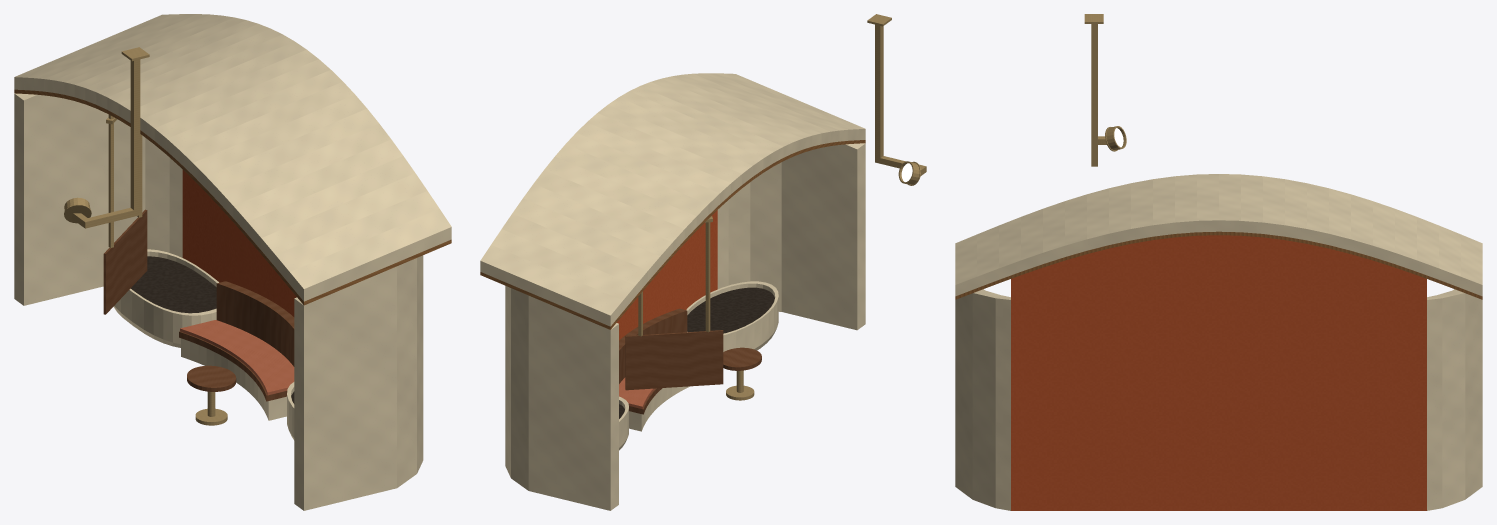
The model's file is AST-AQU-016_east_gallery_rest_bay_r04.glb.
3 views of the same model, side by side, from view 1: azimuth 30°, elevation 25°; view 2: azimuth 150°, elevation 25°; view 3: azimuth 270°, elevation 25° (orthographic). The views are drawn at different scales.
Visible parts, largest first — view 1: EAST_Bay_PaleFrontCanopy, EAST_Bay_AftSweptReturn, EAST_Bay_ForeSweptReturn, EAST_Bay_CurvedClayBack, EAST_Bench_WalnutBack, EAST_Bench_ClayUpholstery, EAST_ForeSoilBed_Soil, EAST_ForeSoilBed_Container, EAST_Display_AngledReceiver, EAST_Bay_WarmRearCanopy, EAST_Bench_StonePlinth, FIN_Bay_DropStem (+4 smaller); view 2: EAST_Bay_PaleFrontCanopy, EAST_Bay_ForeSweptReturn, EAST_Bay_AftSweptReturn, EAST_Display_AngledReceiver, EAST_Bay_CurvedClayBack, EAST_AftSoilBed_Soil, EAST_AftSoilBed_Container, EAST_Bay_WarmRearCanopy, EAST_Bench_WalnutBack, FIN_Bay_DropStem, EAST_Table_WalnutTop, EAST_Bench_StonePlinth (+2 smaller); view 3: EAST_Bay_CurvedClayBack, EAST_Bay_PaleFrontCanopy, EAST_Bay_RearHeader, EAST_Bay_AftSweptReturn, EAST_Bay_ForeSweptReturn, EAST_Bay_WarmRearCanopy, FIN_Bay_DropStem.
Boxes of the visible parts, box(x1,y1,x2,y2) form: EAST_Bay_PaleFrontCanopy: box(14, 14, 451, 301); EAST_Bay_AftSweptReturn: box(294, 255, 423, 510); EAST_Bay_ForeSweptReturn: box(14, 93, 182, 305); EAST_Bay_CurvedClayBack: box(182, 170, 296, 316); EAST_Bench_WalnutBack: box(216, 281, 294, 366); EAST_Bench_ClayUpholstery: box(180, 320, 294, 395); EAST_ForeSoilBed_Soil: box(131, 256, 216, 313); EAST_ForeSoilBed_Container: box(113, 249, 218, 347); EAST_Display_AngledReceiver: box(103, 209, 147, 314); EAST_Bay_WarmRearCanopy: box(14, 89, 451, 305); EAST_Bench_StonePlinth: box(181, 338, 286, 420); FIN_Bay_DropStem: box(130, 59, 140, 216); EAST_Bay_PaleFrontCanopy: box(480, 73, 865, 326); EAST_Bay_ForeSweptReturn: box(505, 286, 618, 510); EAST_Bay_AftSweptReturn: box(717, 143, 865, 330); EAST_Display_AngledReceiver: box(625, 330, 723, 390); EAST_Bay_CurvedClayBack: box(617, 210, 717, 340); EAST_AftSoilBed_Soil: box(687, 287, 774, 333); EAST_AftSoilBed_Container: box(686, 281, 778, 351); EAST_Bay_WarmRearCanopy: box(480, 140, 865, 329); EAST_Bench_WalnutBack: box(619, 308, 687, 383); FIN_Bay_DropStem: box(875, 24, 883, 163); EAST_Table_WalnutTop: box(723, 347, 761, 370); EAST_Bench_StonePlinth: box(629, 386, 689, 431); EAST_Bay_CurvedClayBack: box(1011, 303, 1426, 510); EAST_Bay_PaleFrontCanopy: box(955, 174, 1482, 296); EAST_Bay_RearHeader: box(1011, 235, 1426, 303); EAST_Bay_AftSweptReturn: box(955, 289, 1010, 510); EAST_Bay_ForeSweptReturn: box(1427, 289, 1482, 510); EAST_Bay_WarmRearCanopy: box(955, 231, 1482, 299); FIN_Bay_DropStem: box(1091, 24, 1097, 166).
Size of the model in its own units: 5.36 by 7.27 by 9.
8 materials, 7 textured.
